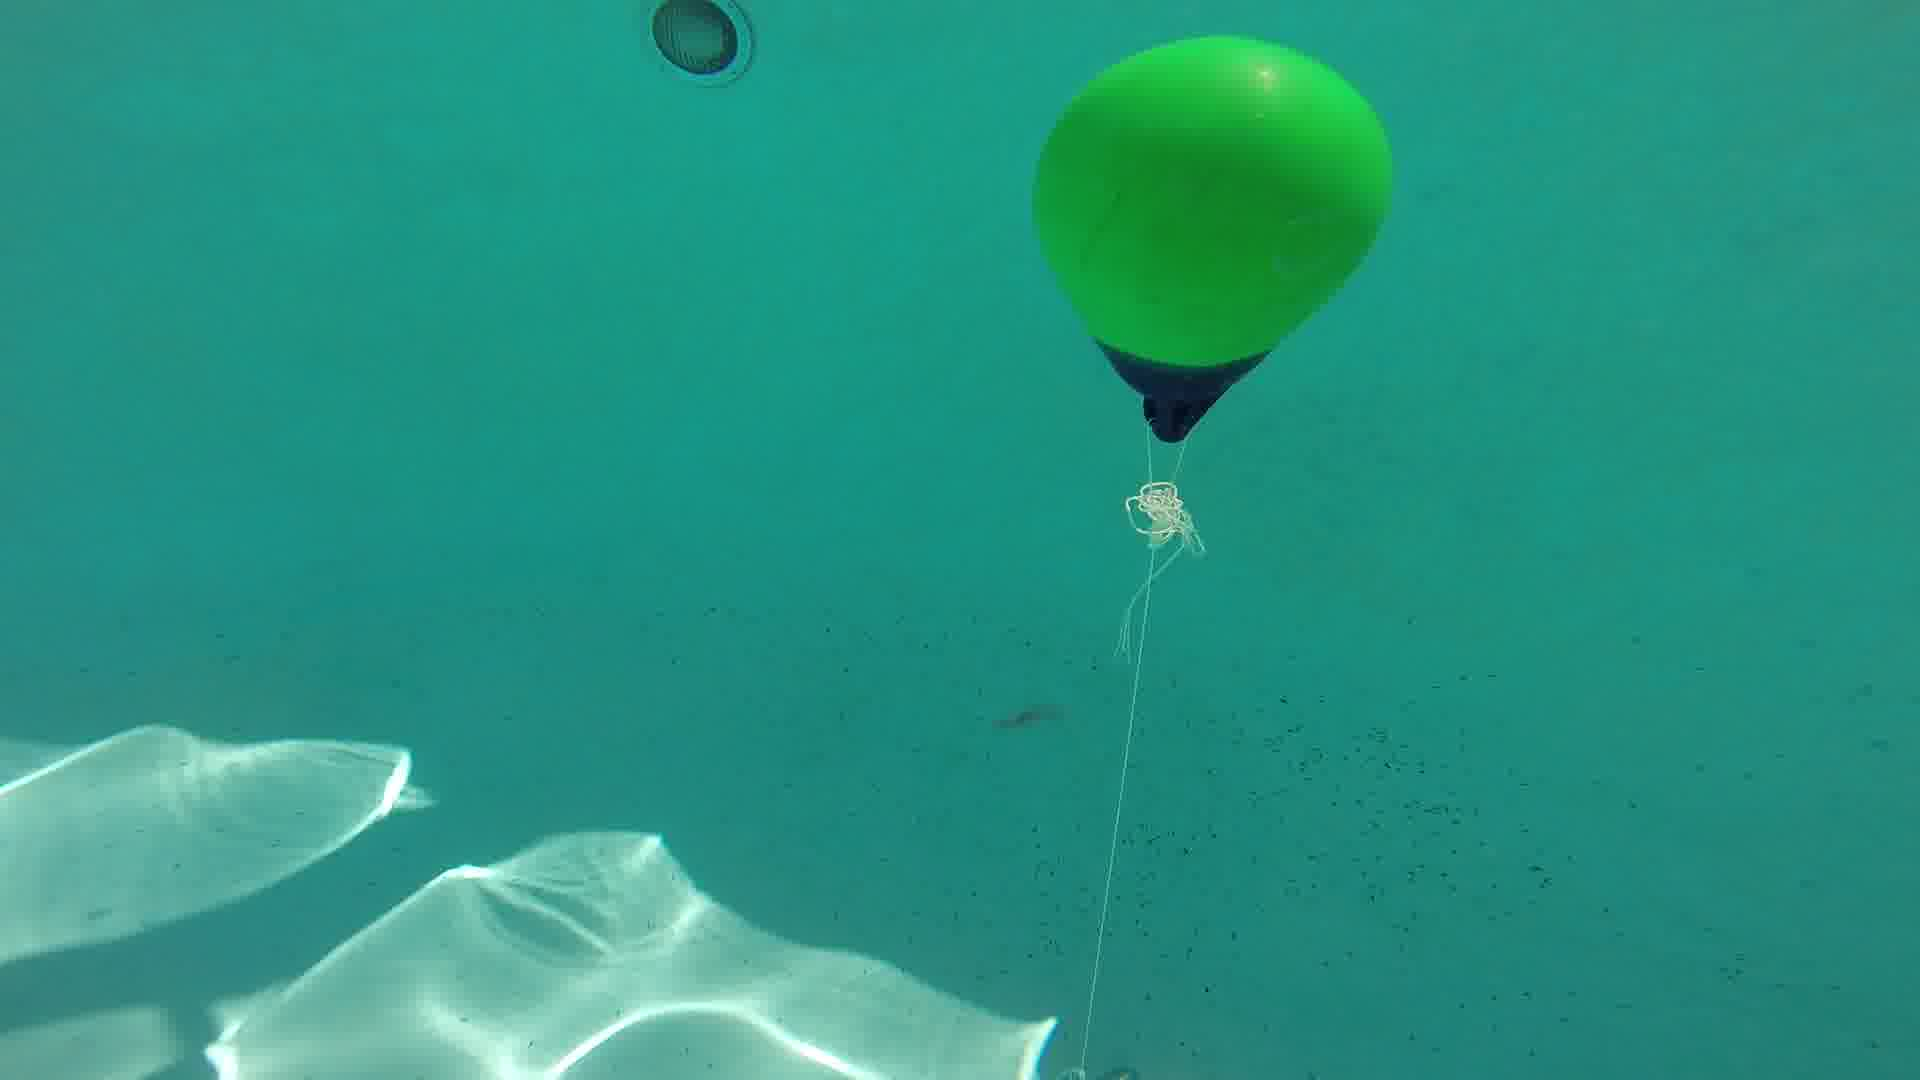yellow_buoy: (1021, 34, 1404, 448)
